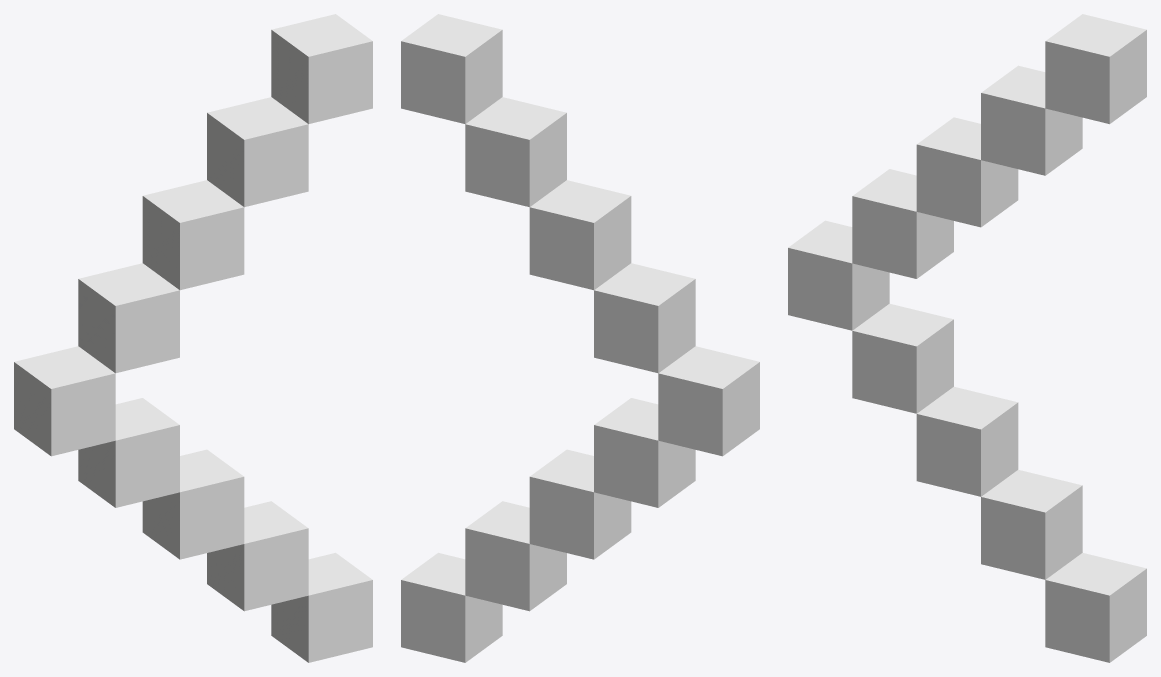
The model's file is arrow.fbx.
3 renders of one model, left to right at view 1: azimuth 30°, elevation 25°; view 2: azimuth 150°, elevation 25°; view 3: azimuth 330°, elevation 25°, orthographic.
Parts seen in each view (by area): view 1: arrow; view 2: arrow; view 3: arrow.
Part boxes in pixels (x1,y1,x2,y2): arrow: (14,14,372,662); arrow: (401,14,759,662); arrow: (788,14,1146,662).
Size of the model in its own units: 5 by 9 by 1.
